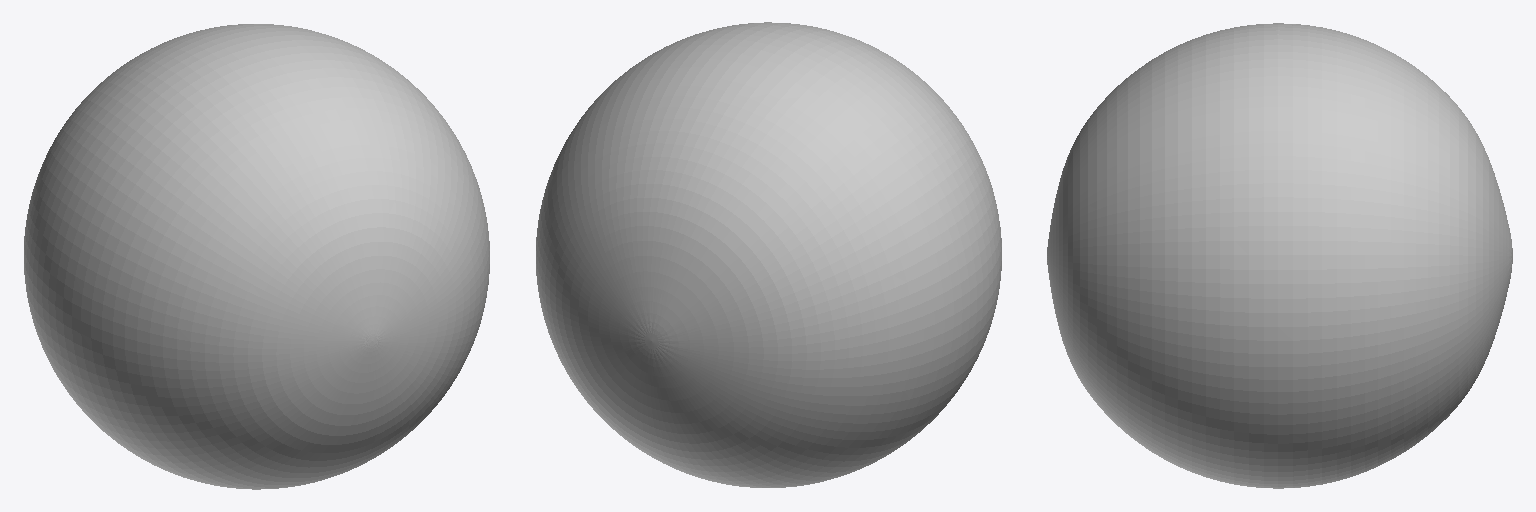
Rendered from ball.obj.
The picture shows the model from 3 angles: view 1: azimuth 30°, elevation 25°; view 2: azimuth 150°, elevation 25°; view 3: azimuth 270°, elevation 25°; orthographic projection.
Visible parts, largest first — view 1: ball_body; view 2: ball_body; view 3: ball_body.
Part boxes in pixels (left/top/right/bottom): ball_body: left=24, top=24, right=489, bottom=489; ball_body: left=536, top=22, right=1001, bottom=487; ball_body: left=1047, top=23, right=1512, bottom=488.
Size of the model in its own units: 24.09 by 24.1 by 24.13.